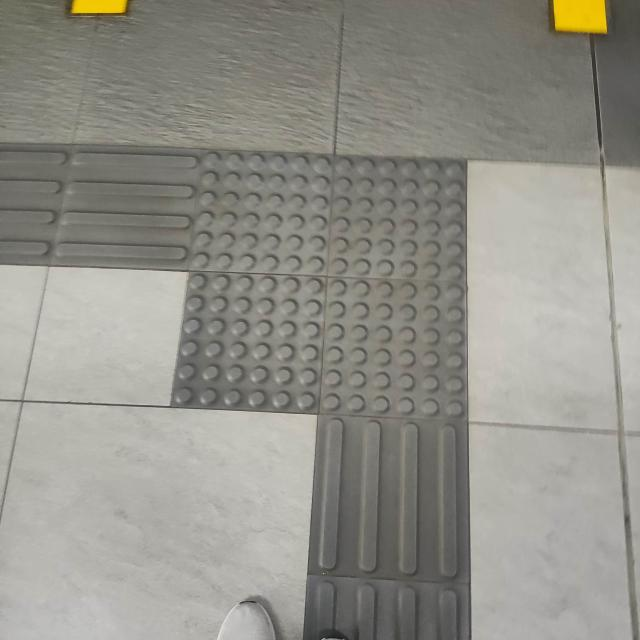kiri: (2, 96, 572, 557)
